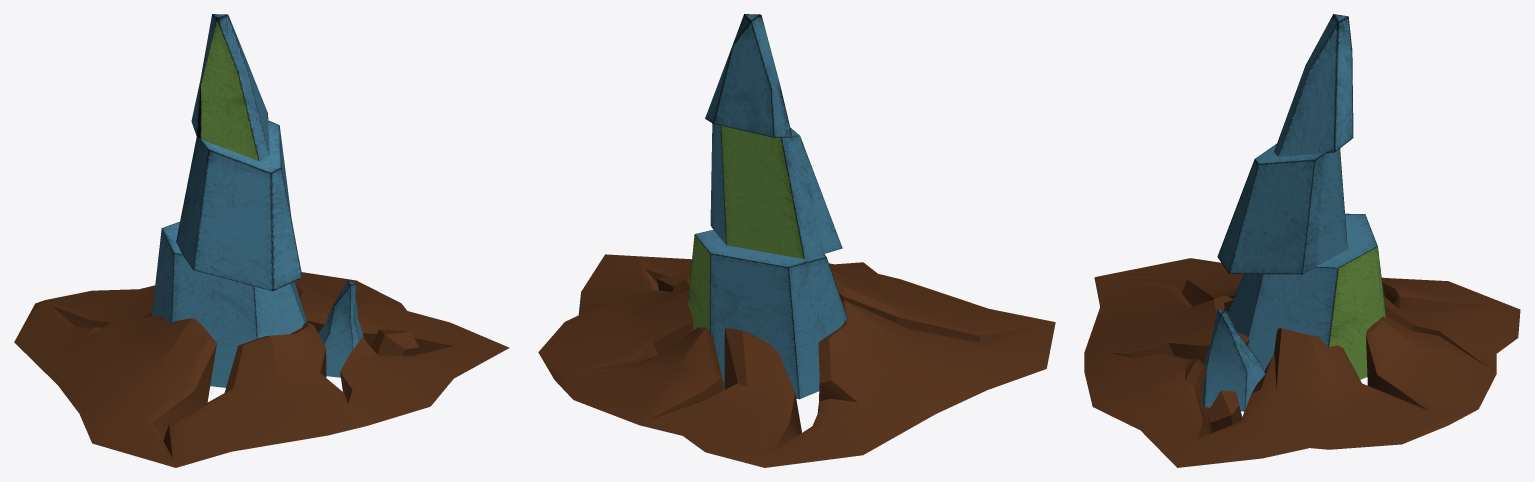
File: medium_resources_terain.fbx
3 renders of one model, left to right at view 1: azimuth 30°, elevation 25°; view 2: azimuth 150°, elevation 25°; view 3: azimuth 270°, elevation 25°, orthographic. The views are drawn at different scales.
Parts seen in each view (by area): view 1: medium_resources_terain; view 2: medium_resources_terain; view 3: medium_resources_terain.
Part boxes in pixels (x1,y1,x2,y2): medium_resources_terain: (14,14,509,467); medium_resources_terain: (538,14,1055,467); medium_resources_terain: (1084,14,1520,467).
Bounding box in the file's own units: 162 × 133 × 142.
